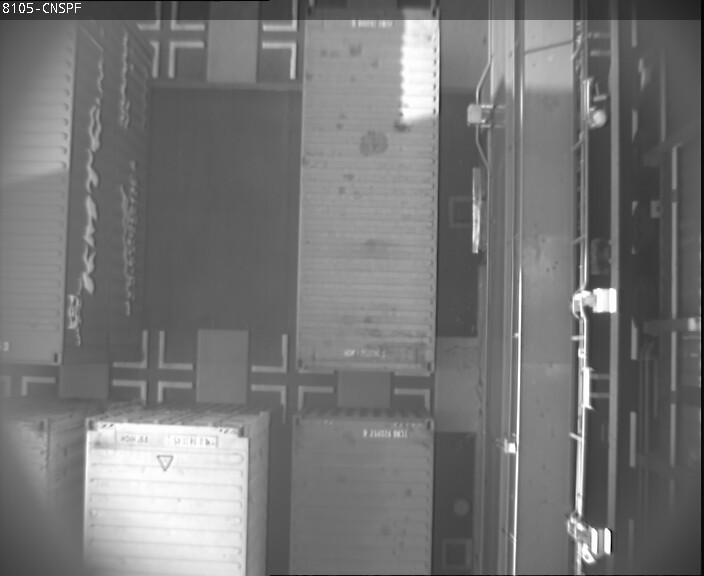groundmarker_1: (112, 329, 187, 373), (130, 35, 204, 79), (113, 374, 188, 417), (262, 4, 298, 75), (253, 337, 289, 408)
